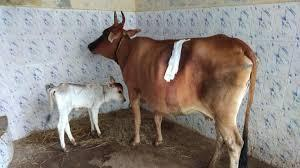cow: (87, 22, 257, 167), (48, 81, 127, 150)
